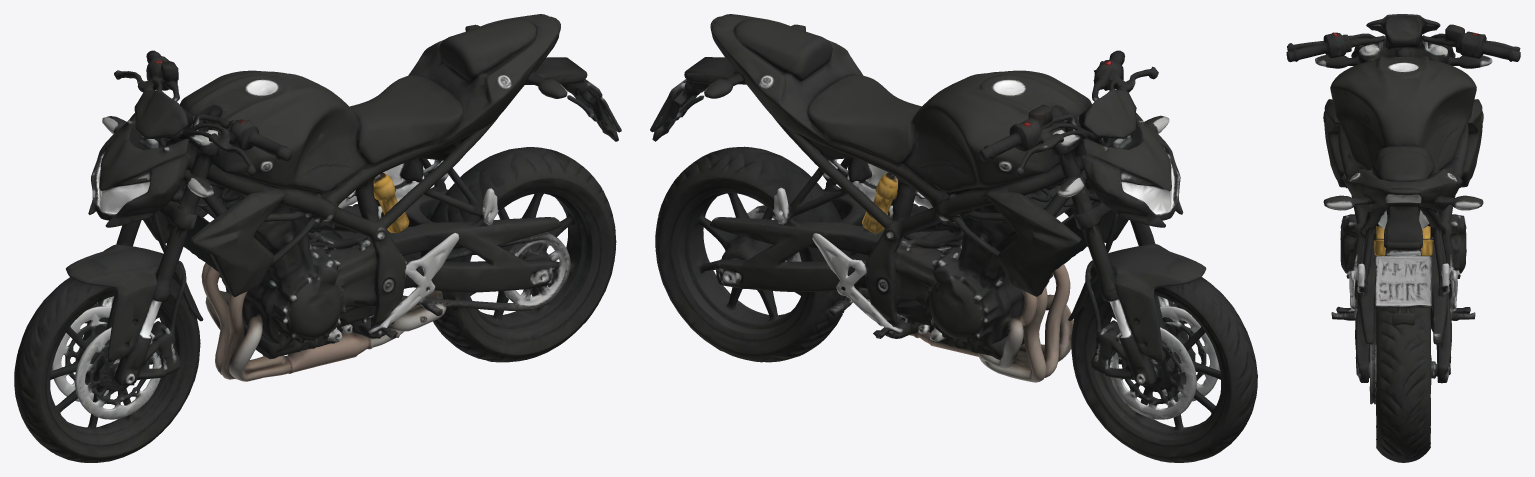
The model's file is 046_naked_streetbike_black.glb.
The picture shows the model from 3 angles, left to right: view 1: azimuth 30°, elevation 25°; view 2: azimuth 150°, elevation 25°; view 3: azimuth 270°, elevation 25°; orthographic projection. The views are drawn at different scales.
Parts seen in each view (by area): view 1: geometry_0; view 2: geometry_0; view 3: geometry_0.
Boxes of the visible parts, x1=… form: geometry_0: x1=14, y1=14, x2=621, y2=462; geometry_0: x1=650, y1=14, x2=1257, y2=462; geometry_0: x1=1286, y1=14, x2=1520, y2=462.
Size of the model in its own units: 2.2 by 1.23 by 0.8833.
1 material, 1 textured.
